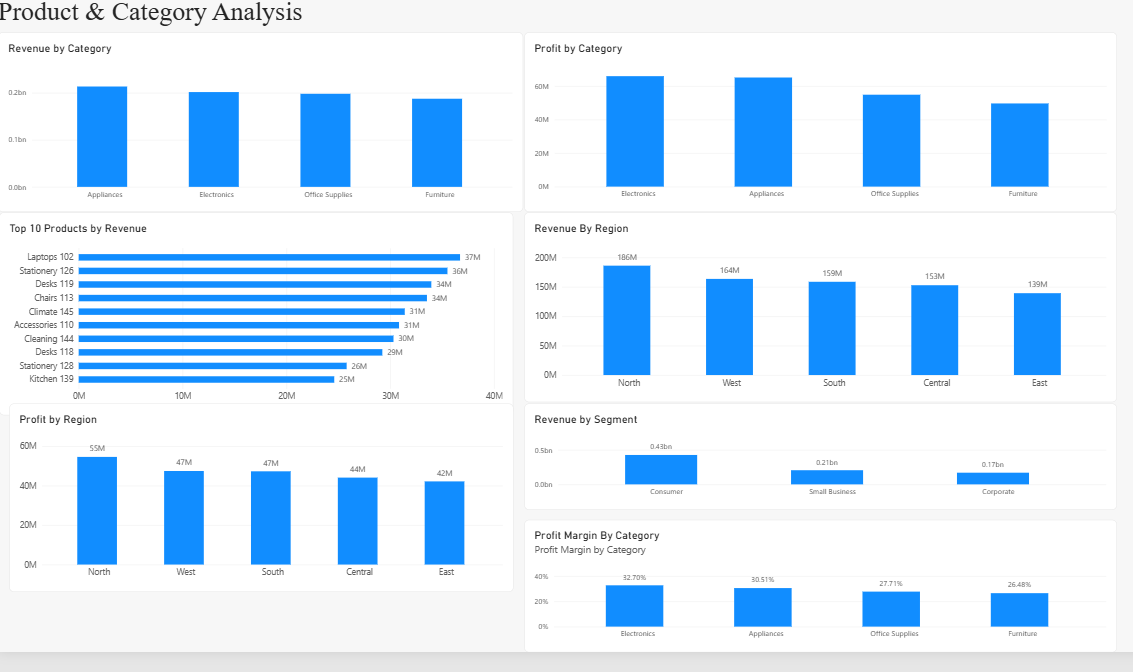

This screenshot's page, from the dashboard's own definition file:
{"tool":"powerbi","page":{"name":"Product & Category Analysis","canvas":[1920,1080],"ordinal":1},"visuals":[{"type":"clusteredColumnChart","title":"Revenue by Category","fields":{"Category":["Dim_Product.Category"],"Y":["Fact_Sales.Total Revenue"]},"box":[0,76,864,280],"z":0},{"type":"clusteredColumnChart","fields":{"Category":["Dim_Product.Category"],"Y":["Fact_Sales.Profit"]},"box":[866,60,976,296],"z":1000},{"type":"clusteredBarChart","title":"Top 10 Products by  Revenue","fields":{"Category":["Dim_Product.ProductName"],"Y":["Fact_Sales.Total Revenue"]},"box":[2,356,846,334],"z":2000},{"type":"clusteredColumnChart","title":"Revenue By Region","fields":{"Category":["Dim_Region.Region"],"Y":["Fact_Sales.Total Revenue"]},"box":[866,356,868,312],"z":3000},{"type":"clusteredColumnChart","fields":{"Category":["Dim_Region.Region"],"Y":["Fact_Sales.Profit"]},"box":[18,672,830,310],"z":4000},{"type":"clusteredColumnChart","title":"Revenue by Segment","fields":{"Category":["Dim_Customer.Segment"],"Y":["Fact_Sales.Total Revenue"]},"box":[848,672,914,174],"z":5000},{"type":"clusteredColumnChart","title":"Profit Margin By Category","fields":{"Category":["Dim_Product.Category"],"Y":["Fact_Sales.Profit Margin"]},"box":[866,862,962,218],"z":6000},{"type":"textbox","box":[0,0,1662,76],"z":7000}]}

Visuals, with their boxes on the page's 1920x1080 design canvas (x1, y1, x2, y2). These are canvas units, not pixel positions in the 1133x672 screenshot, which may show the page scaled, cropped or inside an application window:
"Revenue by Category" clusteredColumnChart: box(0, 76, 864, 356)
clusteredColumnChart - Dim_Product.Category x Fact_Sales.Profit: box(866, 60, 1842, 356)
"Top 10 Products by  Revenue" clusteredBarChart: box(2, 356, 848, 690)
"Revenue By Region" clusteredColumnChart: box(866, 356, 1734, 668)
clusteredColumnChart - Dim_Region.Region x Fact_Sales.Profit: box(18, 672, 848, 982)
"Revenue by Segment" clusteredColumnChart: box(848, 672, 1762, 846)
"Profit Margin By Category" clusteredColumnChart: box(866, 862, 1828, 1080)
textbox: box(0, 0, 1662, 76)
